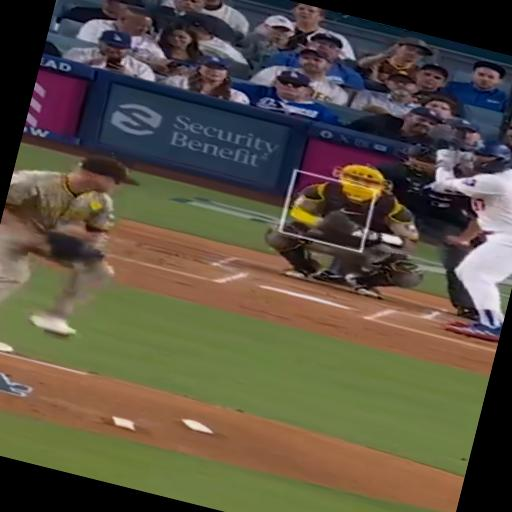bat: (465, 156, 512, 160)
